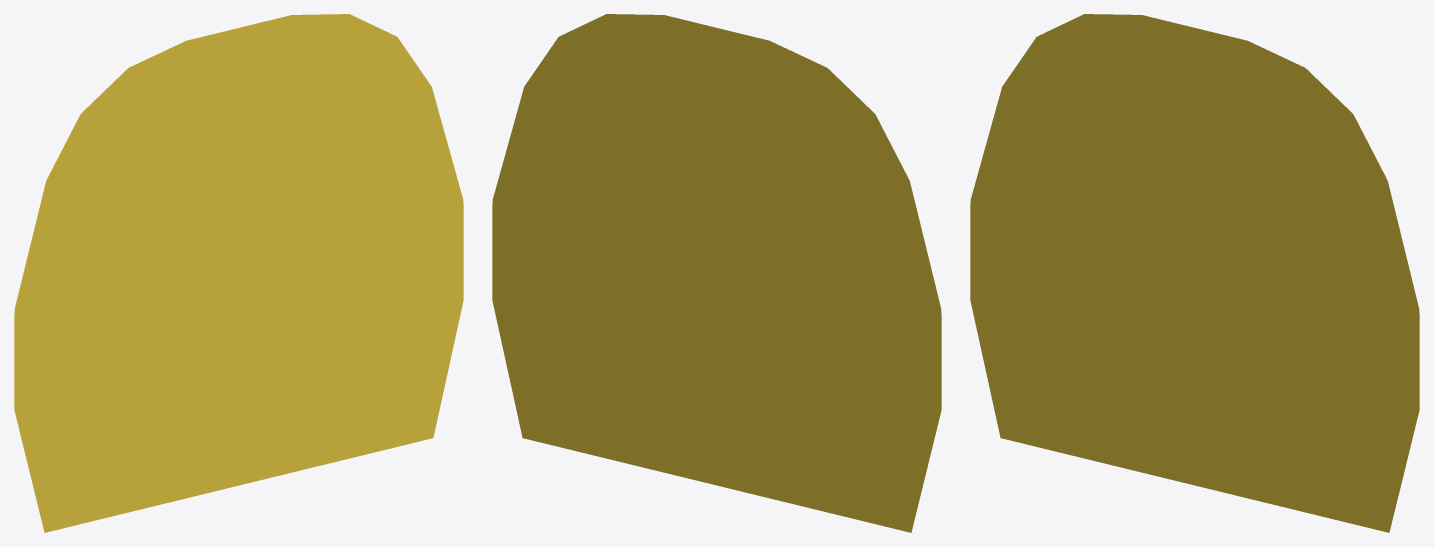
File: dungeon_Gate_effects.fbx
3 views of the same model, side by side, from view 1: azimuth 30°, elevation 25°; view 2: azimuth 150°, elevation 25°; view 3: azimuth 330°, elevation 25° (orthographic).
Visible parts, largest first — view 1: polySurface679; view 2: polySurface679; view 3: polySurface679.
Part boxes in pixels (x1,y1,x2,y2): polySurface679: (14, 14, 463, 532); polySurface679: (492, 14, 941, 532); polySurface679: (970, 14, 1419, 532).
Size of the model in its own units: 38.33 by 37.28 by 0.
